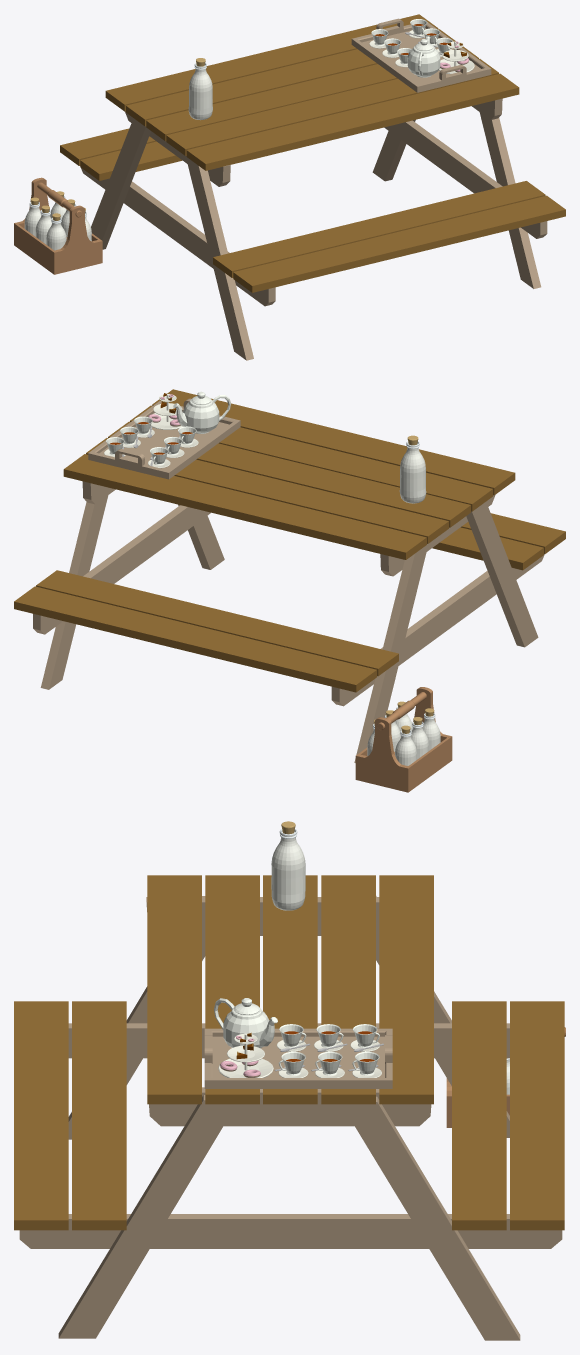
The model's file is PickNickBenchUnwrap.fbx.
3 renders of one model, top to bottom at view 1: azimuth 30°, elevation 25°; view 2: azimuth 150°, elevation 25°; view 3: azimuth 270°, elevation 25°, orthographic. The views are drawn at different scales.
Visible parts, largest first — view 1: PickNickBench; view 2: PickNickBench; view 3: PickNickBench.
Boxes of the visible parts, left/top/right/bottom form: PickNickBench: left=14, top=14, right=565, bottom=360; PickNickBench: left=14, top=389, right=565, bottom=792; PickNickBench: left=14, top=821, right=565, bottom=1340.
Bounding box in the file's own units: 488 × 302 × 452.
